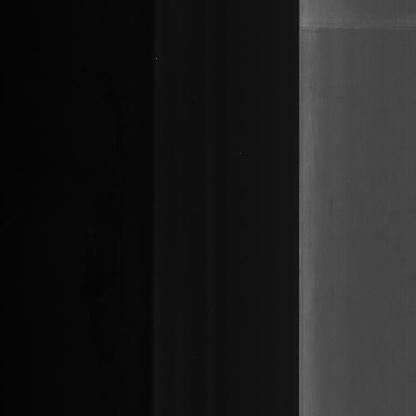welding_line: (297, 15, 416, 40)
